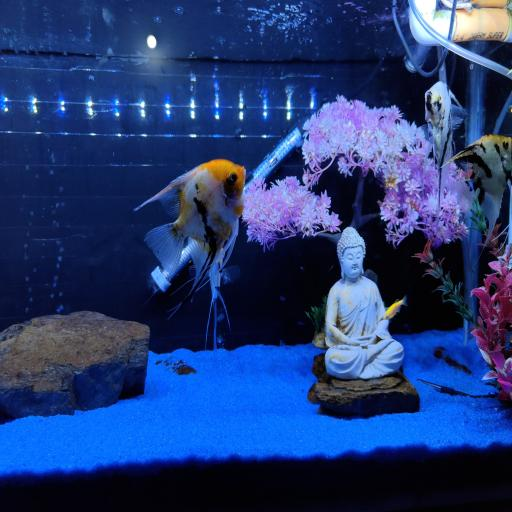Fish: (135, 160, 245, 318), (447, 135, 511, 244), (423, 81, 465, 217), (383, 296, 407, 319)
